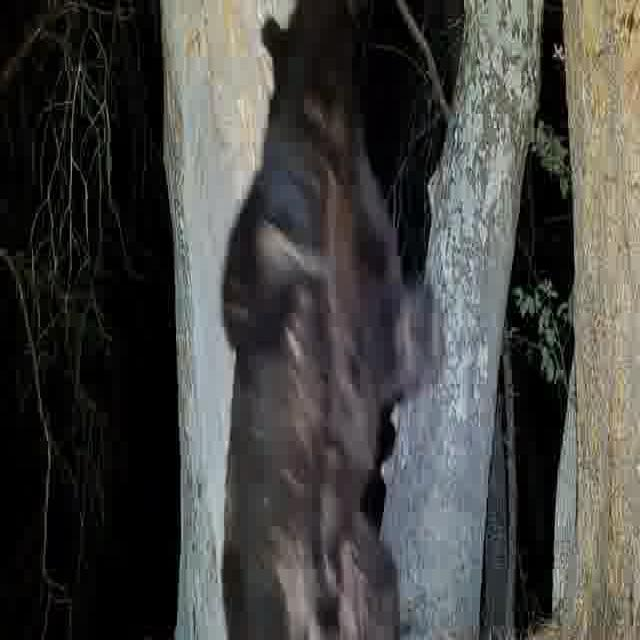bear face: (220, 0, 443, 640)
